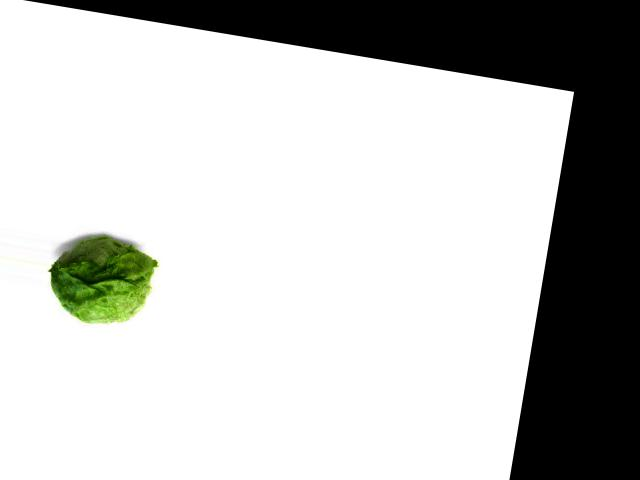lettuce: (42, 223, 160, 338)
